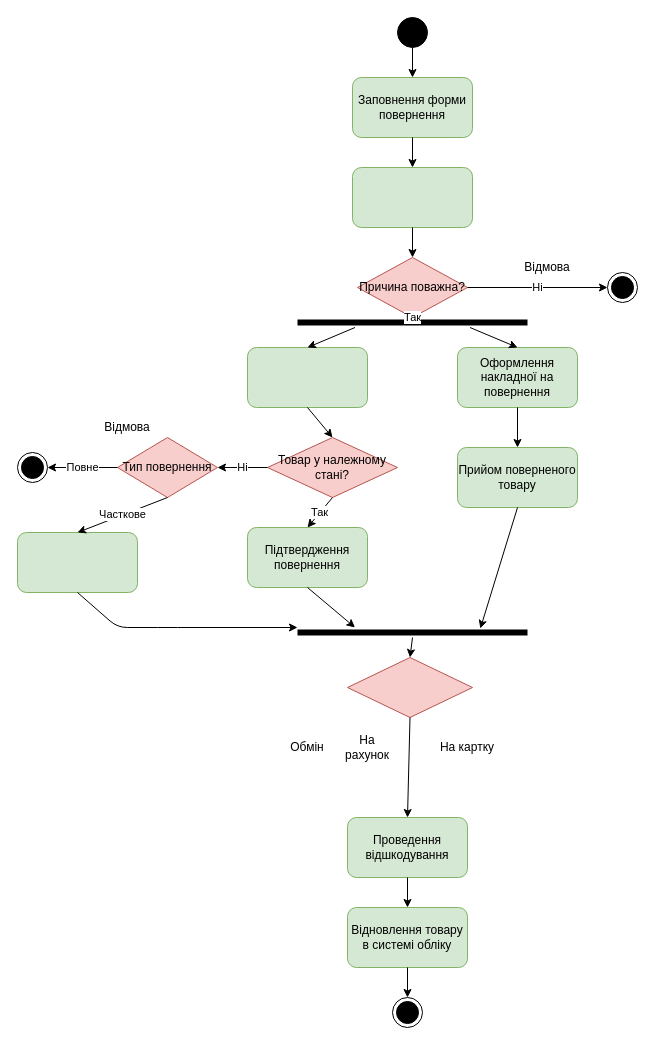
Some shapes in this 655 by 1045 pixel diagram are drawn without their labels. Here are the shapes that lost their labels. From the top down, the box of each, then its label:
(352, 166, 472, 228): Перевірка підстави повернення
(246, 346, 368, 408): Перевірка стану товару
(16, 532, 138, 592): Визначення суми відшкодування
(346, 656, 472, 718): Спосіб відшкодування
